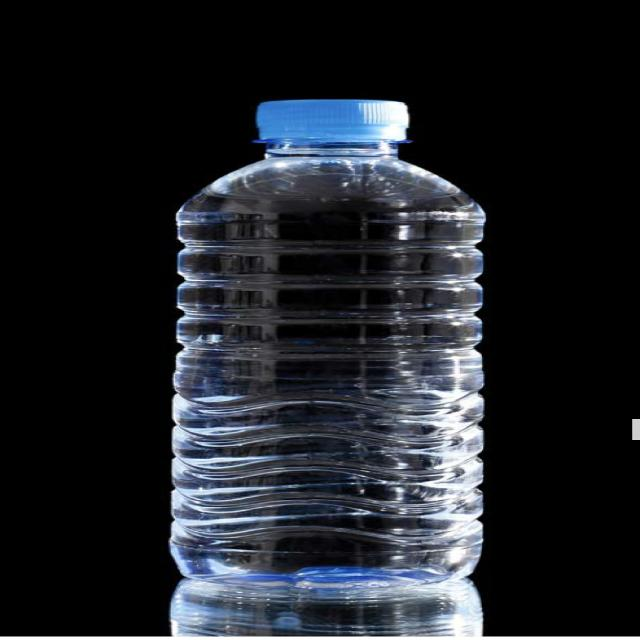recyclable: (119, 77, 562, 640)
